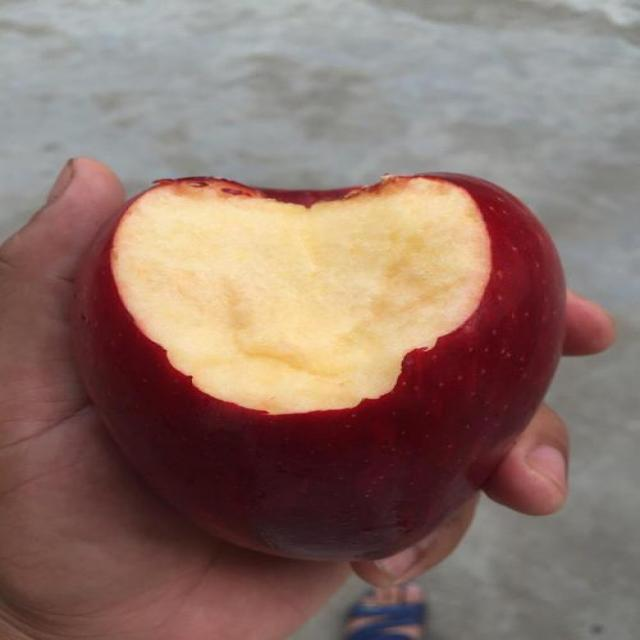Rotten: (73, 156, 561, 574)
